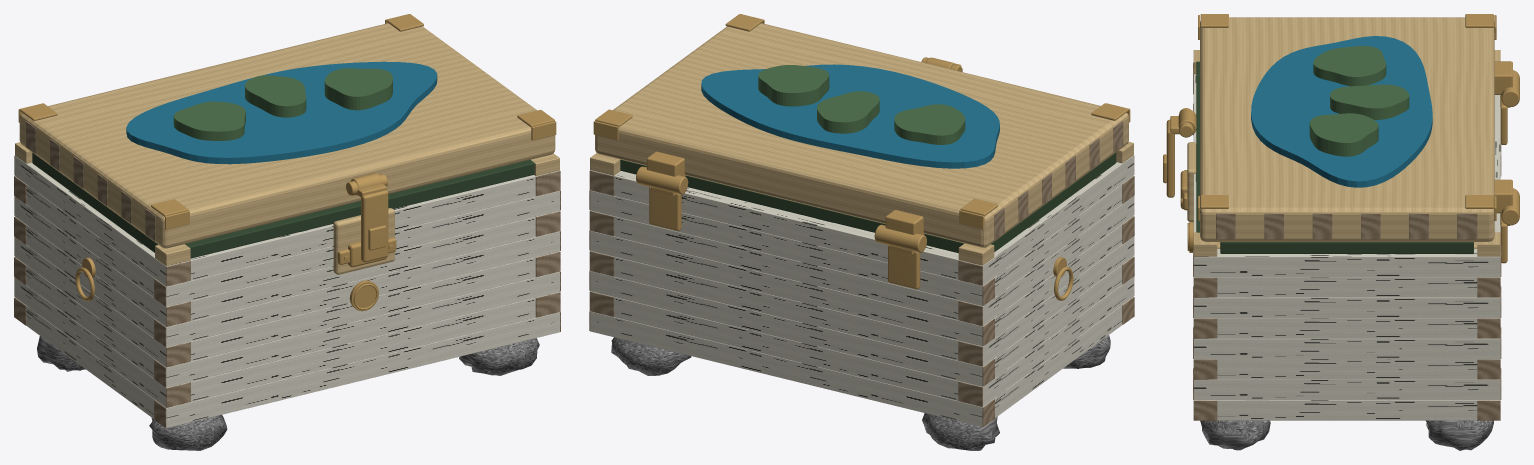
Rendered from finland.glb.
3 renders of one model, left to right at view 1: azimuth 30°, elevation 25°; view 2: azimuth 150°, elevation 25°; view 3: azimuth 270°, elevation 25°, orthographic.
Parts seen in each view (by area): view 1: Lid / polished slab, Lake / enamel basin, Birch / front course 0, Birch / front course 2, Birch / front course 4, Birch / front course 1, Birch / front course 3, Birch / front course 6, Birch / front course 5, Birch / front course 7, Mineral seam / long, Birch / side course 7 (+18 smaller); view 2: Lid / polished slab, Lake / enamel basin, Birch / rear course 2, Birch / rear course 4, Birch / rear course 0, Birch / rear course 7, Birch / rear course 5, Birch / rear course 1, Birch / rear course 3, Birch / rear course 6, Birch / side course 7, Birch / side course 1 (+22 smaller); view 3: Lid / polished slab, Lake / enamel basin, Birch / side course 7.001, Birch / side course 5.001, Birch / side course 3.001, Birch / side course 1.001, Birch / side course 6.001, Birch / side course 0.001, Birch / side course 2.001, Birch / side course 4.001, Mineral seam / side.001, Island / forest relief 2 (+33 smaller).
Boxes of the visible parts, x1,y1,x2,y2 form: Lid / polished slab: [19, 23, 555, 248]; Lake / enamel basin: [126, 61, 437, 164]; Birch / front course 0: [155, 312, 559, 428]; Birch / front course 2: [155, 271, 559, 387]; Birch / front course 4: [155, 231, 559, 347]; Birch / front course 1: [190, 298, 535, 401]; Birch / front course 3: [190, 257, 535, 361]; Birch / front course 6: [155, 191, 559, 306]; Birch / front course 5: [190, 217, 535, 320]; Birch / front course 7: [190, 175, 535, 280]; Mineral seam / long: [185, 159, 534, 258]; Birch / side course 7: [14, 156, 190, 286]; Lid / polished slab: [595, 23, 1128, 247]; Lake / enamel basin: [701, 64, 999, 168]; Birch / rear course 2: [590, 271, 994, 386]; Birch / rear course 4: [590, 230, 994, 346]; Birch / rear course 0: [590, 311, 993, 426]; Birch / rear course 7: [614, 171, 958, 279]; Birch / rear course 5: [614, 216, 958, 320]; Birch / rear course 1: [614, 297, 958, 400]; Birch / rear course 3: [614, 256, 958, 360]; Birch / rear course 6: [590, 190, 993, 305]; Birch / side course 7: [959, 155, 1133, 285]; Birch / side course 1: [959, 277, 1133, 406]; Lid / polished slab: [1200, 17, 1494, 241]; Lake / enamel basin: [1251, 36, 1432, 187]; Birch / side course 7.001: [1194, 249, 1500, 277]; Birch / side course 5.001: [1194, 297, 1500, 318]; Birch / side course 3.001: [1194, 338, 1500, 359]; Birch / side course 1.001: [1194, 379, 1500, 399]; Birch / side course 6.001: [1217, 277, 1477, 297]; Birch / side course 0.001: [1217, 400, 1477, 420]; Birch / side course 2.001: [1217, 359, 1477, 379]; Birch / side course 4.001: [1217, 318, 1477, 338]; Mineral seam / side.001: [1220, 242, 1473, 253]; Island / forest relief 2: [1309, 113, 1378, 156].
Size of the model in its own units: 3.79 by 2.46 by 2.88.
Materials: 8 (4 with a texture image).
